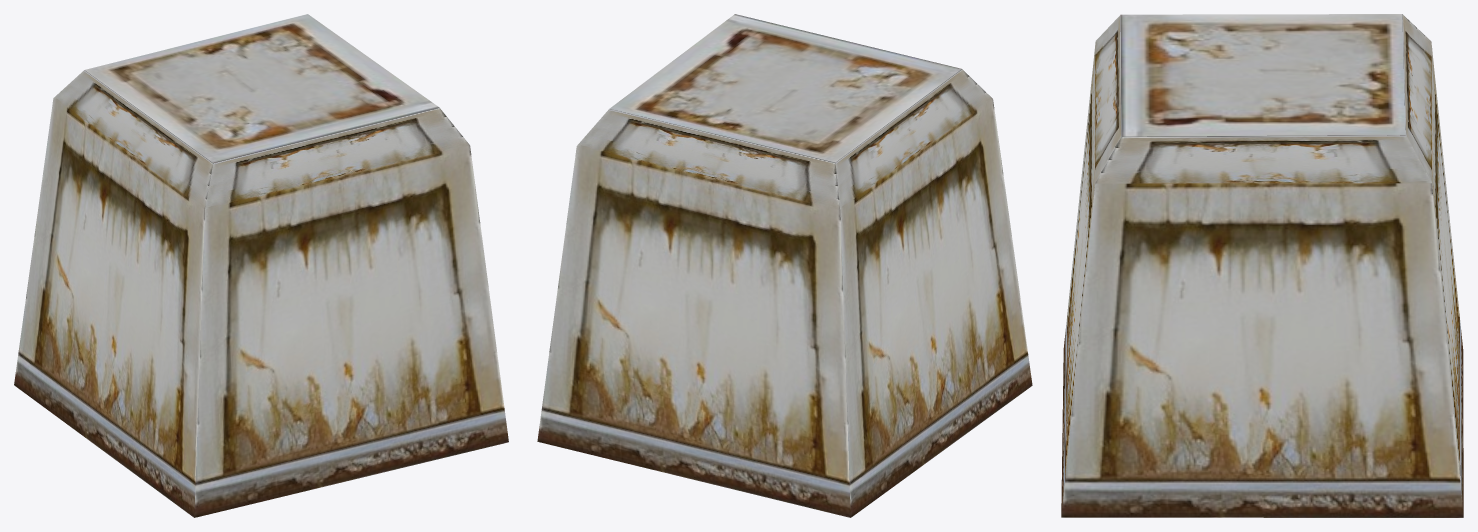
File: d_lightpost_hdtex.glb
The picture shows the model from 3 angles, left to right: view 1: azimuth 30°, elevation 25°; view 2: azimuth 150°, elevation 25°; view 3: azimuth 270°, elevation 25°; orthographic projection. The views are drawn at different scales.
Visible parts, largest first — view 1: DavionLightPostSquat; view 2: DavionLightPostSquat; view 3: DavionLightPostSquat.
Part boxes in pixels (box(x1,y1,x2,y2)): DavionLightPostSquat: box(14, 14, 508, 517); DavionLightPostSquat: box(537, 14, 1032, 517); DavionLightPostSquat: box(1061, 14, 1463, 517).
Size of the model in its own units: 4.54 by 4.49 by 4.57.
Materials: 1 (1 with a texture image).
